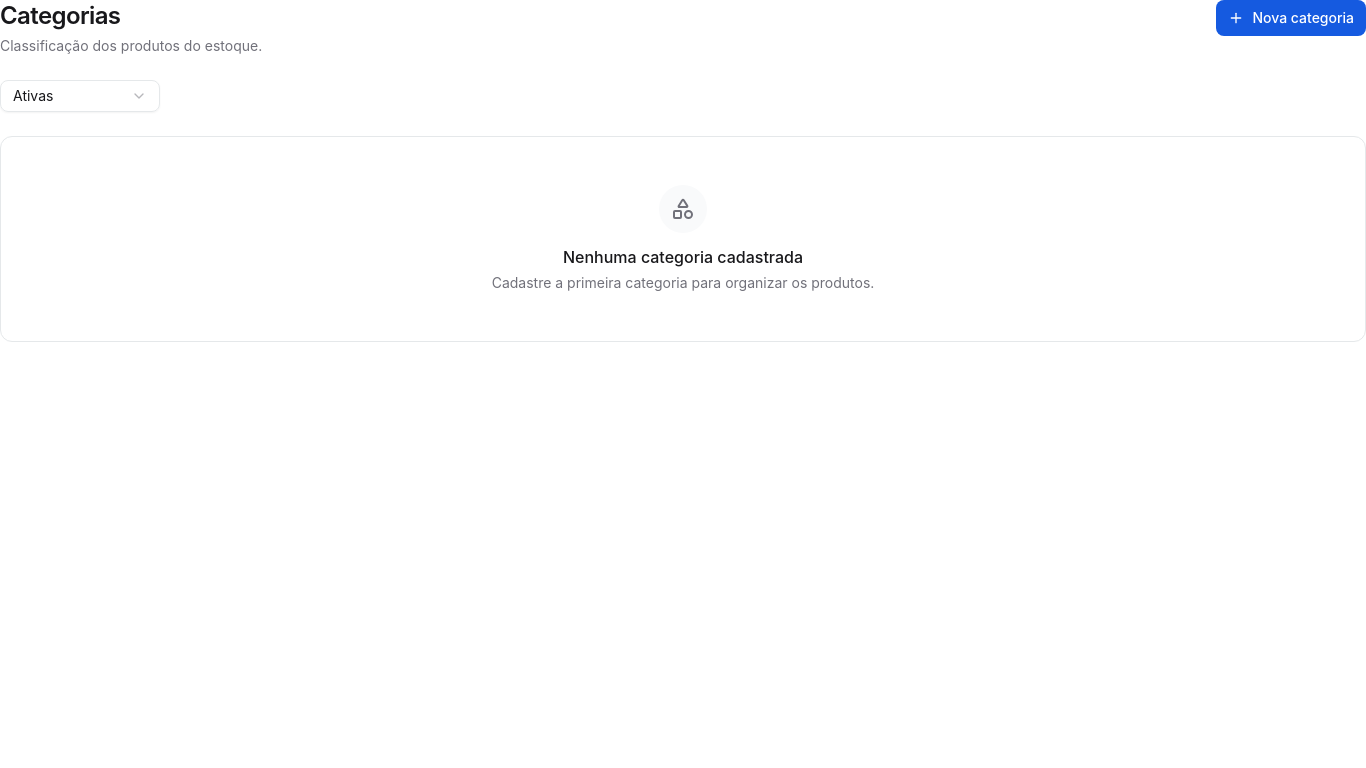
Test: CategoriesPage › criação › nome muito curto é rejeitado antes de chamar a API
Expected: the text "Nenhuma categoria cadastrada" is shown, [563,247,803,267]
Click the button "Nova categoria": (1291,18) [1216,0,1365,36]
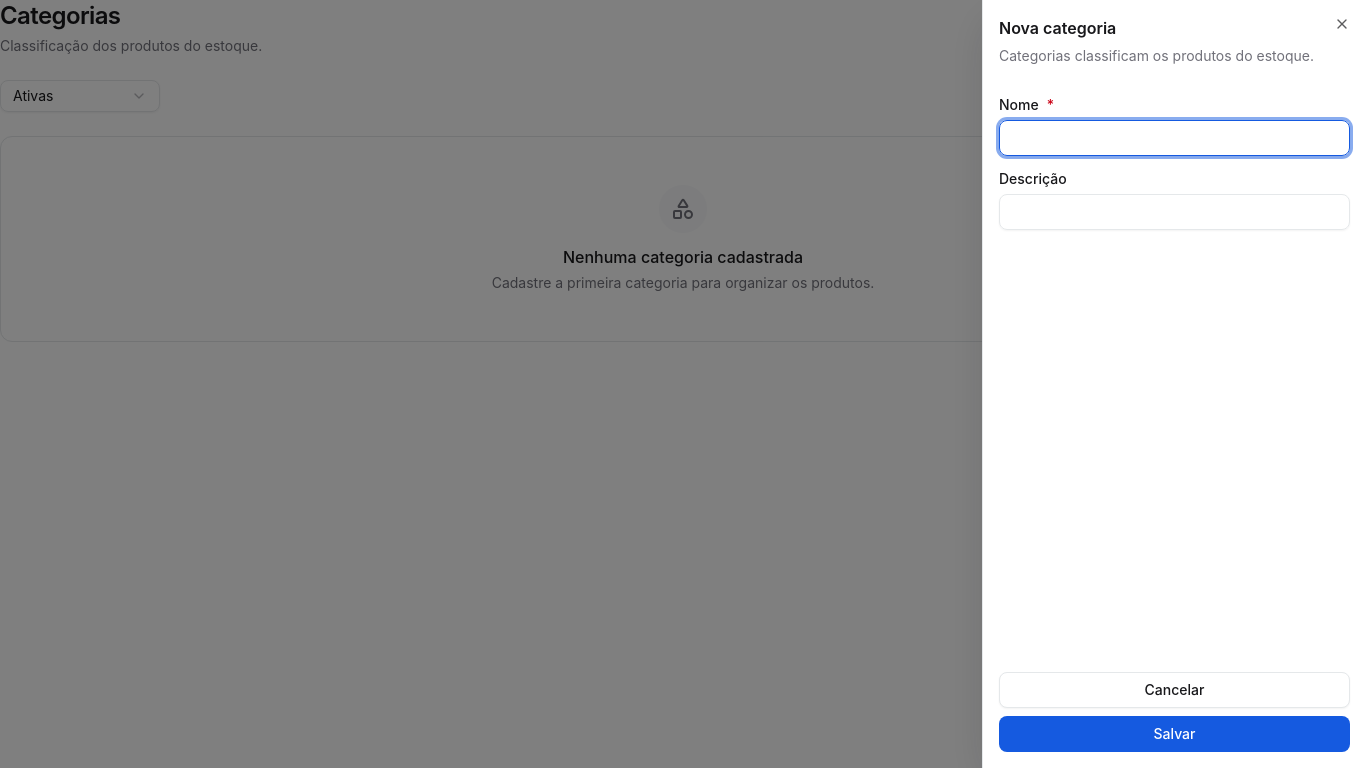
In the field labelled "Nome *": (1174,138) [999,120,1350,156], type "A"
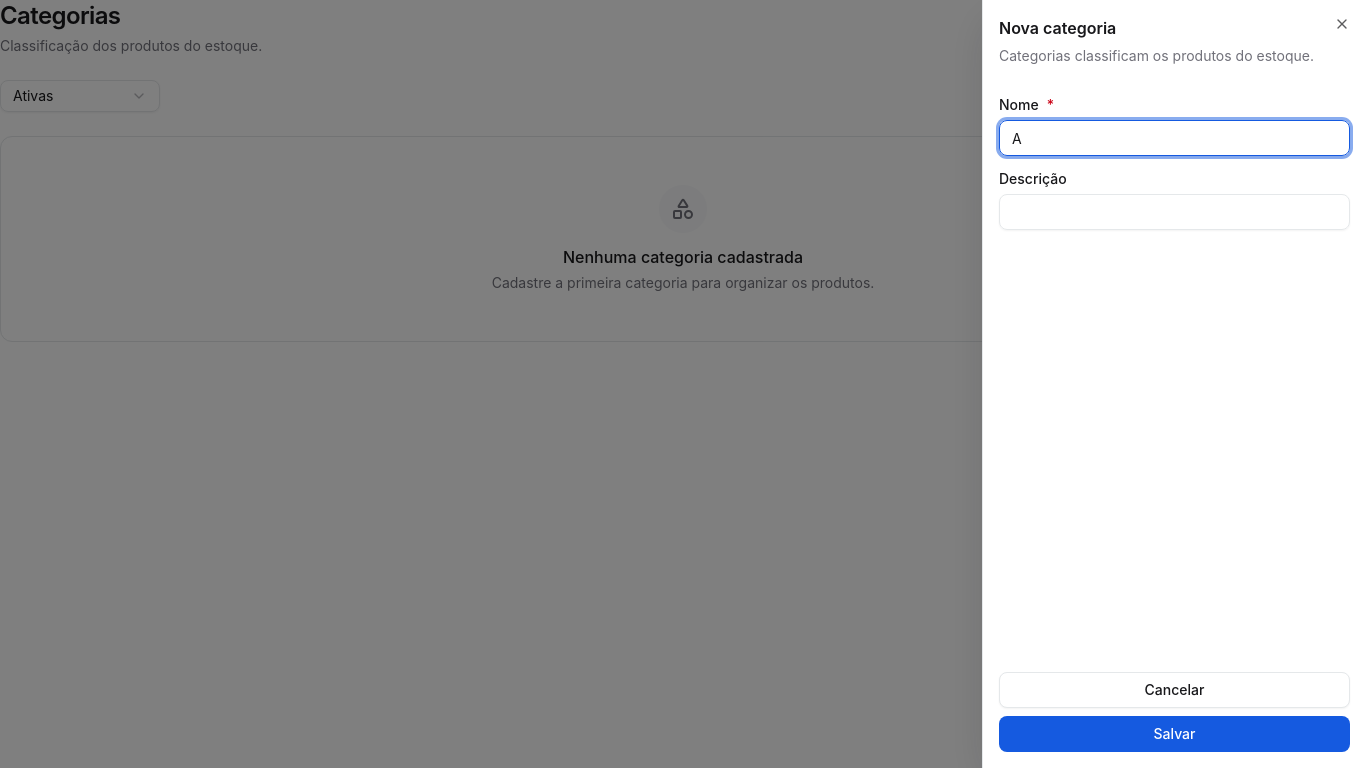
Click the button "Salvar": (1174,734) [999,716,1350,752]
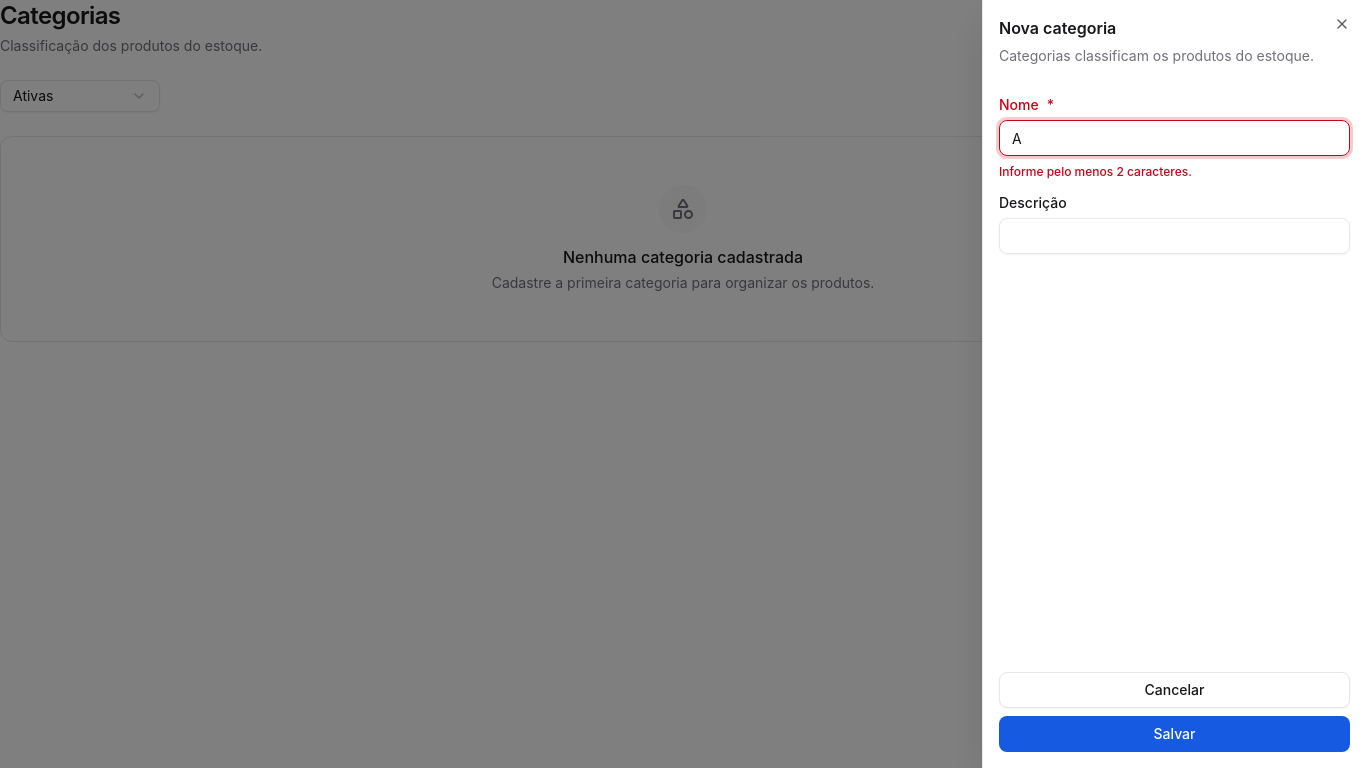
Now the text "Informe pelo menos 2 caracteres." is shown, box [999,164,1192,179]
